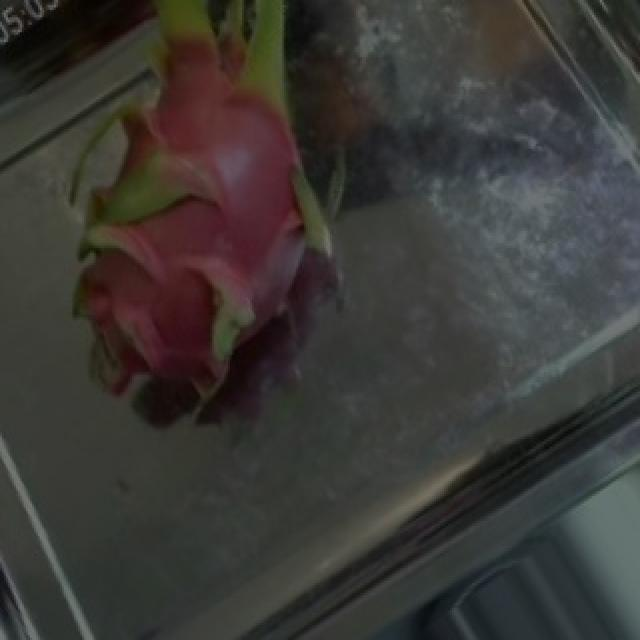fruit: (2, 0, 422, 419)
